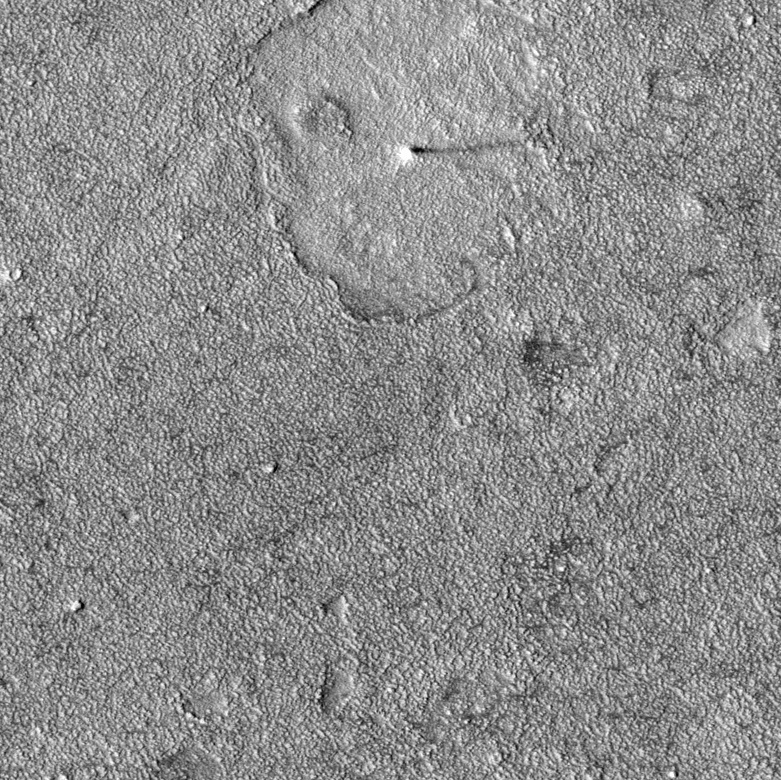dust_devil: (393, 138, 518, 164)
